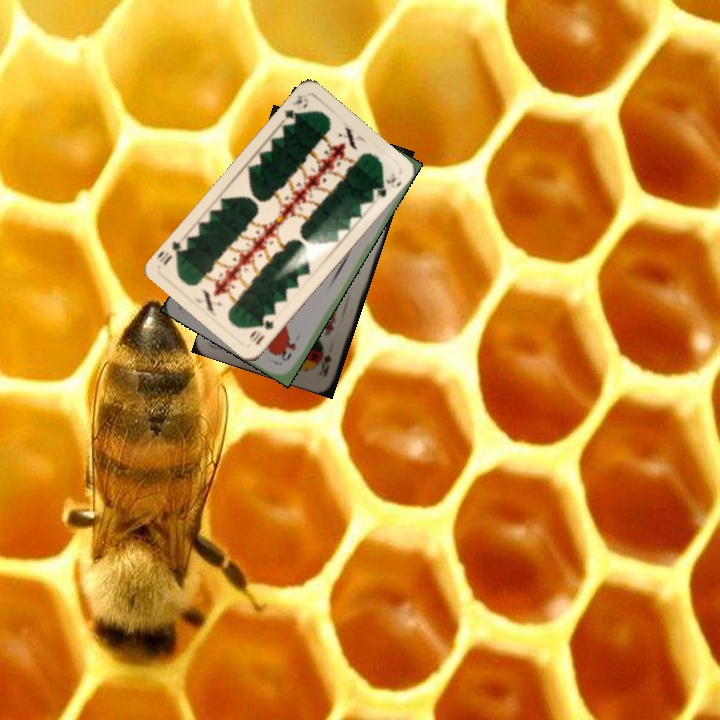G10: (278, 90, 311, 128), (246, 316, 276, 347)
HO: (278, 338, 298, 364)
SK: (315, 350, 334, 379)
